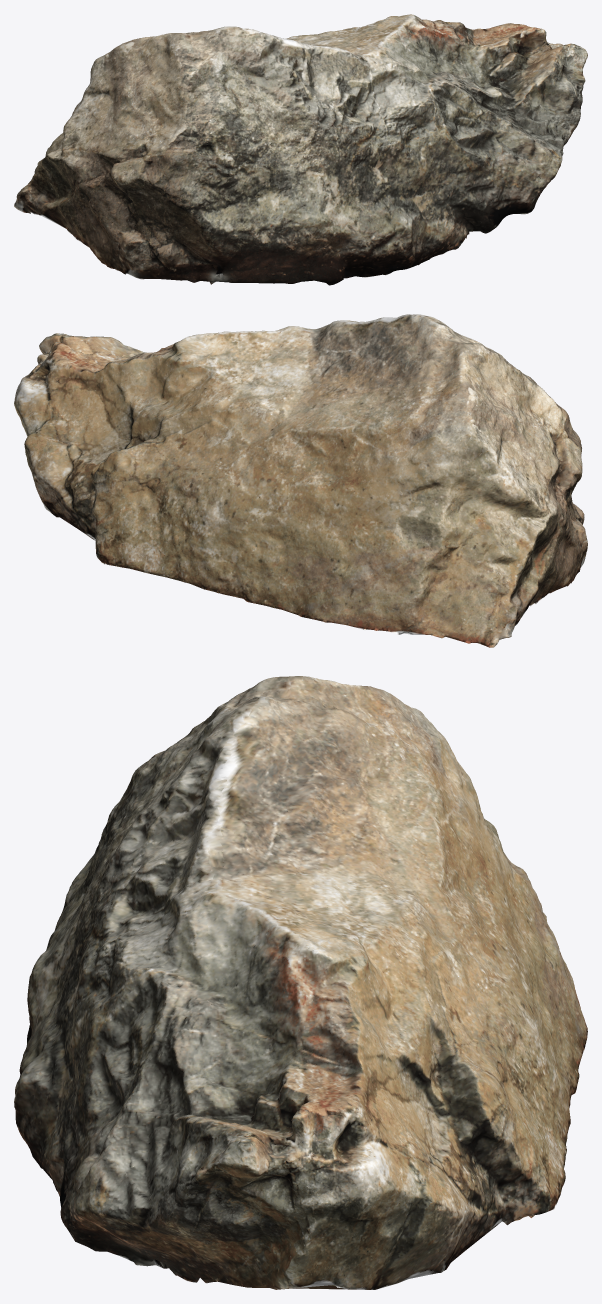
Rendered from sparse3.glb.
3 renders of one model, top to bottom at view 1: azimuth 30°, elevation 25°; view 2: azimuth 150°, elevation 25°; view 3: azimuth 270°, elevation 25°, orthographic. The views are drawn at different scales.
Bounding box in the file's own units: 4.46 × 1.89 × 2.68.
Materials: 1 (1 with a texture image).
